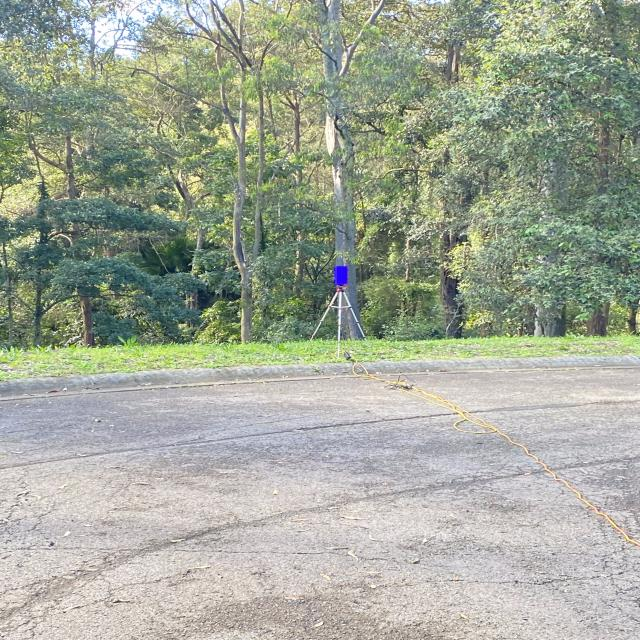matrix: (333, 265, 349, 285)
